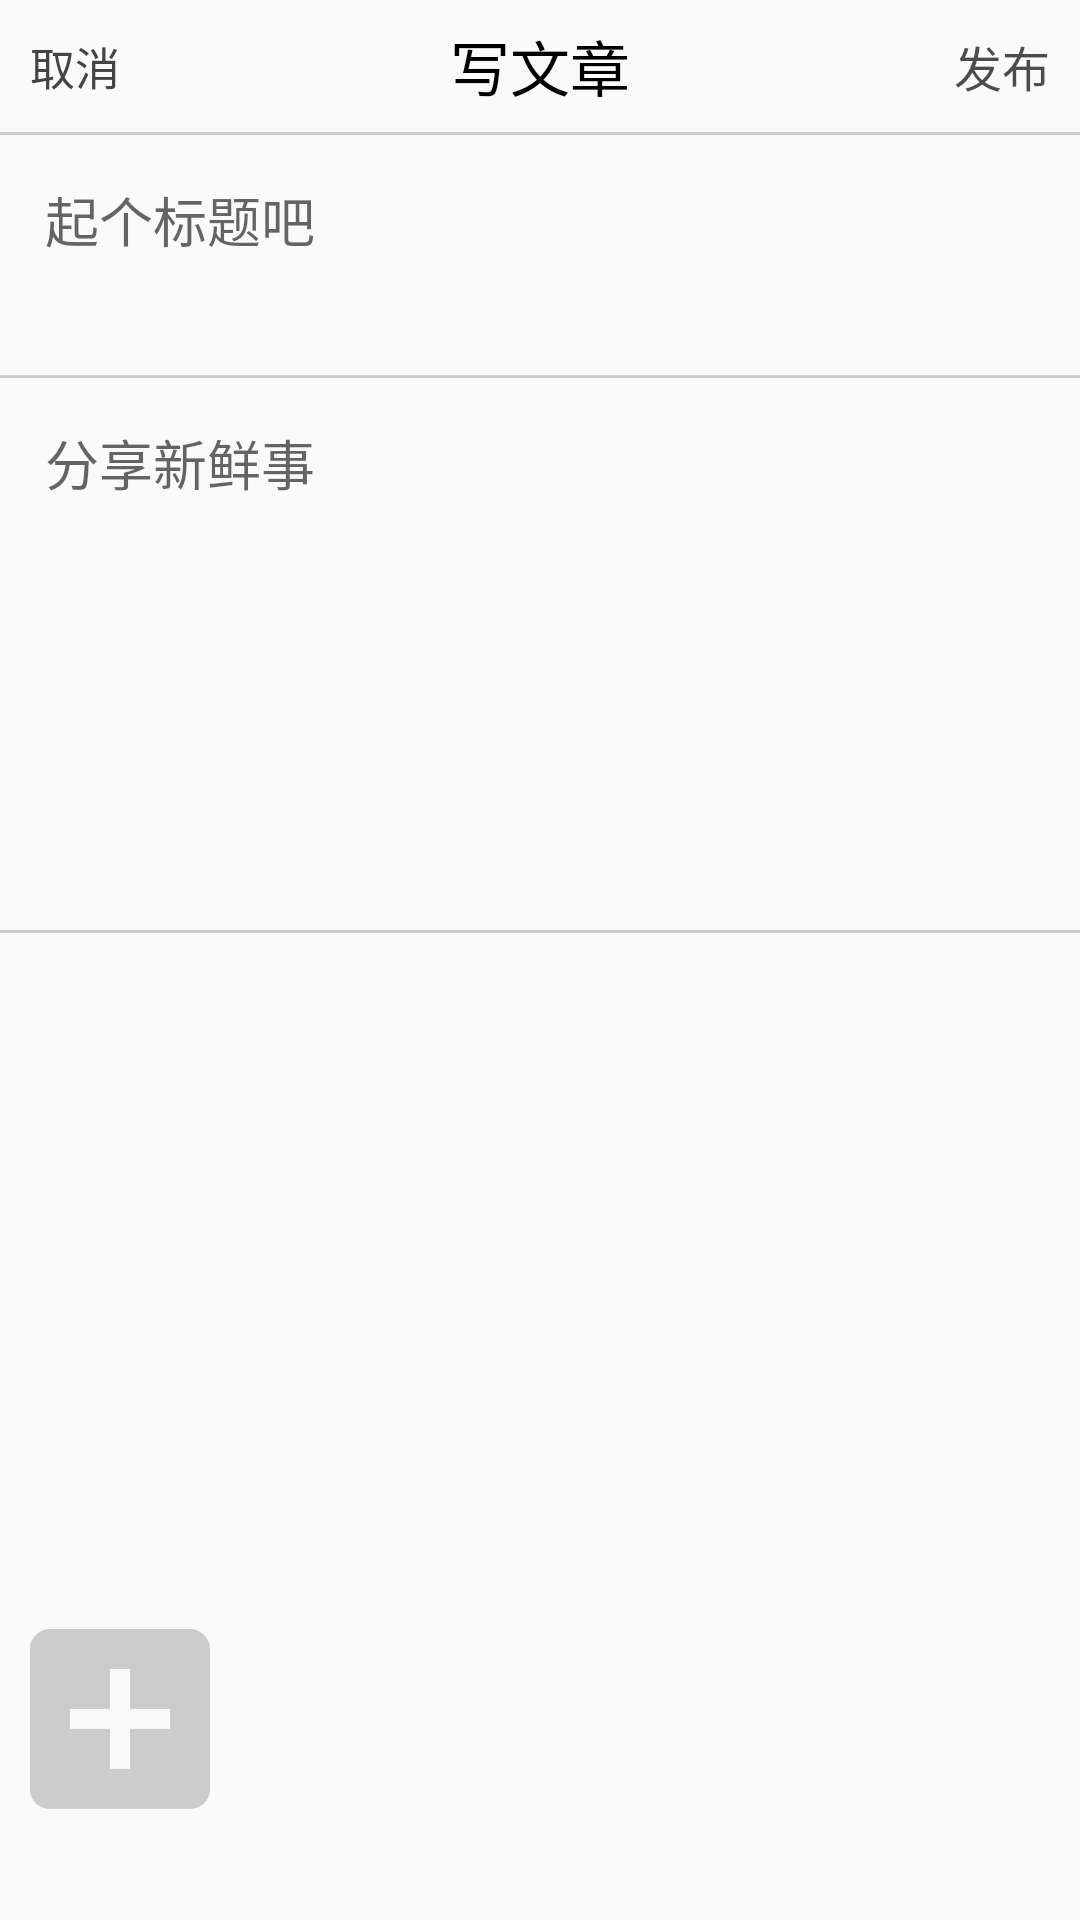

Locate icon controls on the screen. Image size 1080 x 1920, boxes as (left=x1, top=y1, right=x2, bottom=y2).
add box: (left=30, top=1629, right=210, bottom=1809)
